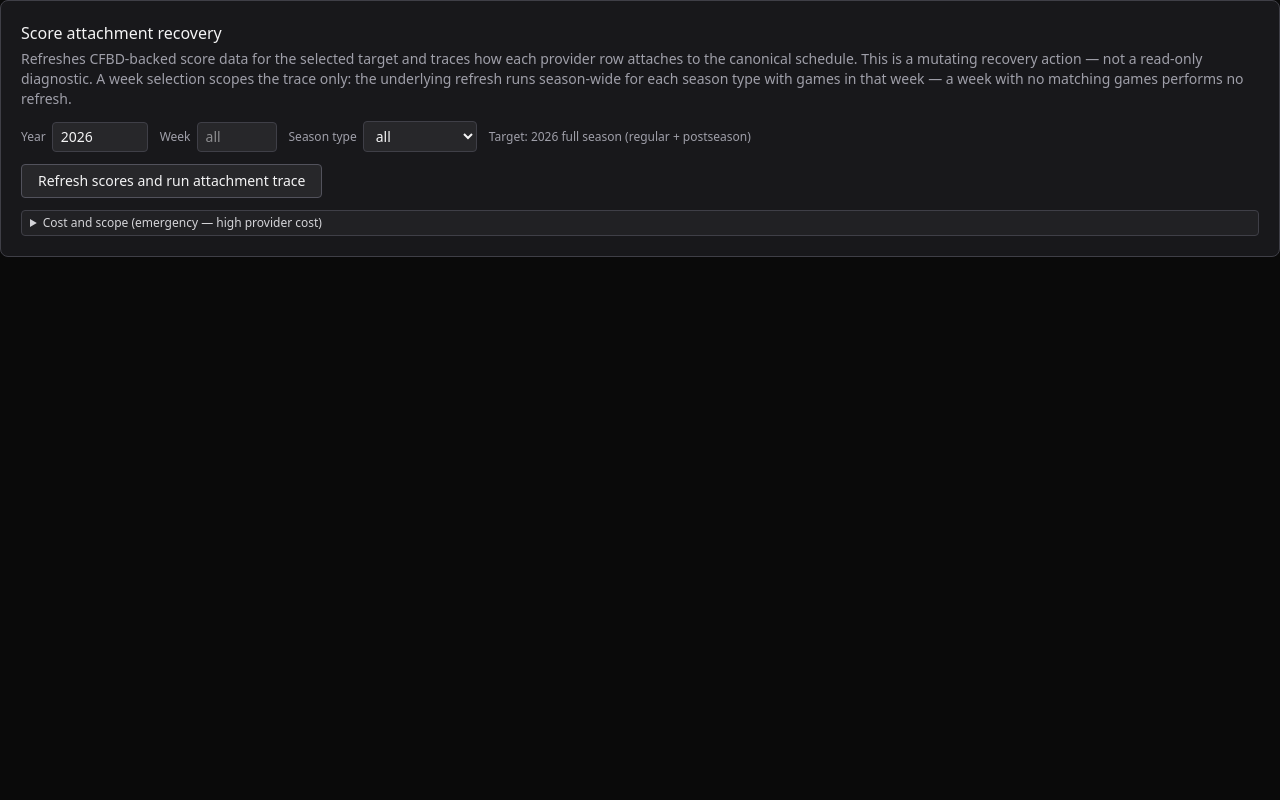
Test: a confirmed all-season run uses exactly year-only params with admin headers, no-store
The image size is (1280, 800).
Click the button "Refresh scores and run attachment trace".
click(172, 181)  # box [21, 164, 322, 198]
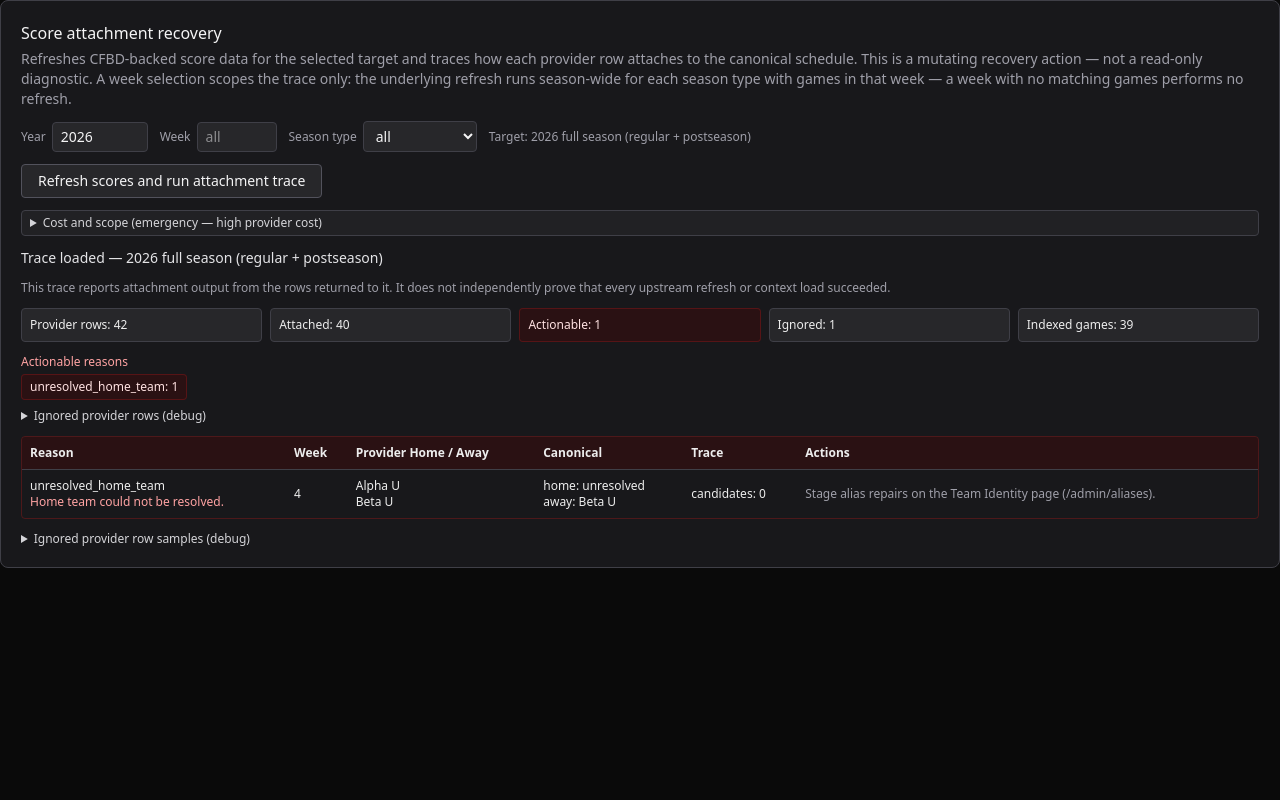
expect the text "Trace loaded — 2026 full season (regular + postseason)" is shown: met, box [21, 248, 383, 267]
